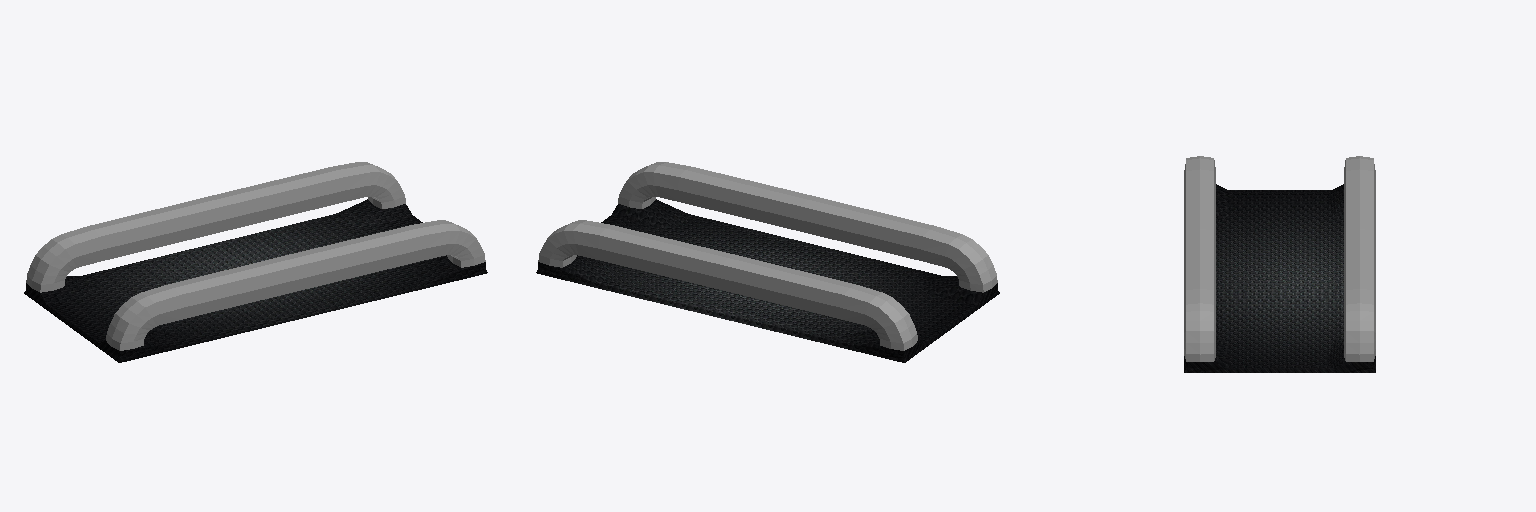
3 views of the same model, side by side, from view 1: azimuth 30°, elevation 25°; view 2: azimuth 150°, elevation 25°; view 3: azimuth 270°, elevation 25° (orthographic).
Visible parts, largest first — view 1: Cube.000_Cube.002, Cube.001; view 2: Cube.000_Cube.002, Cube.001; view 3: Cube.001, Cube.000_Cube.002.
Boxes of the visible parts, box(x1,y1,x2,y2) form: Cube.000_Cube.002: box(26, 162, 485, 350); Cube.001: box(24, 199, 487, 362); Cube.000_Cube.002: box(538, 162, 997, 350); Cube.001: box(536, 199, 999, 362); Cube.001: box(1184, 184, 1375, 372); Cube.000_Cube.002: box(1184, 156, 1375, 361).
Size of the model in its own units: 2.67 by 0.3769 by 1.2.
Materials: 2 (1 with a texture image).